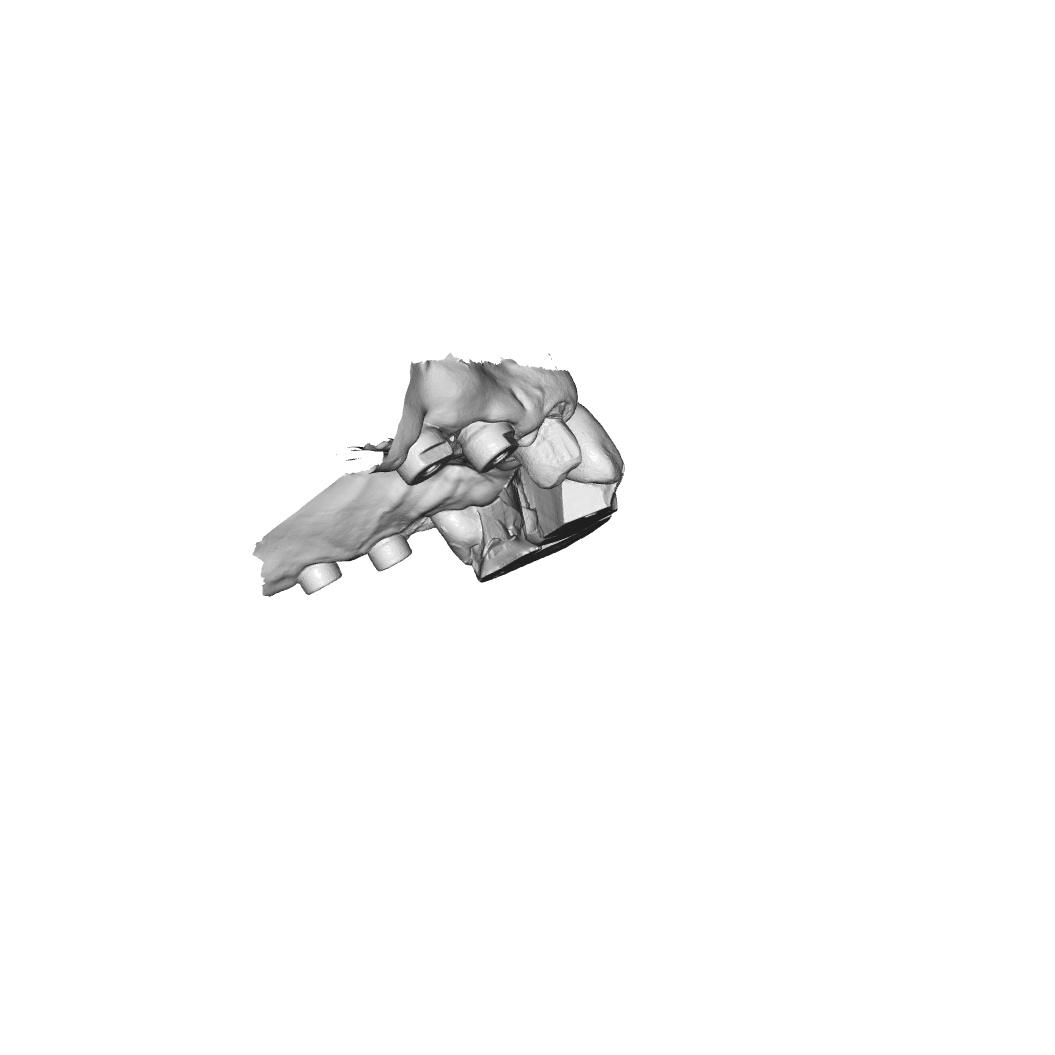implant: (462, 418, 525, 481), (394, 427, 456, 489), (364, 531, 419, 574), (293, 557, 349, 597)
